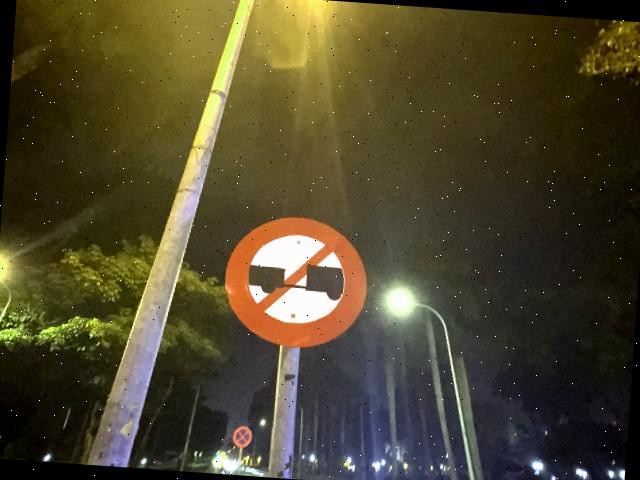cam-xe-somi-romooc: (219, 211, 370, 352)
